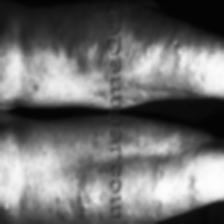Unclassified: (124, 11, 200, 93), (127, 130, 195, 204), (50, 7, 106, 95), (68, 144, 108, 224)
